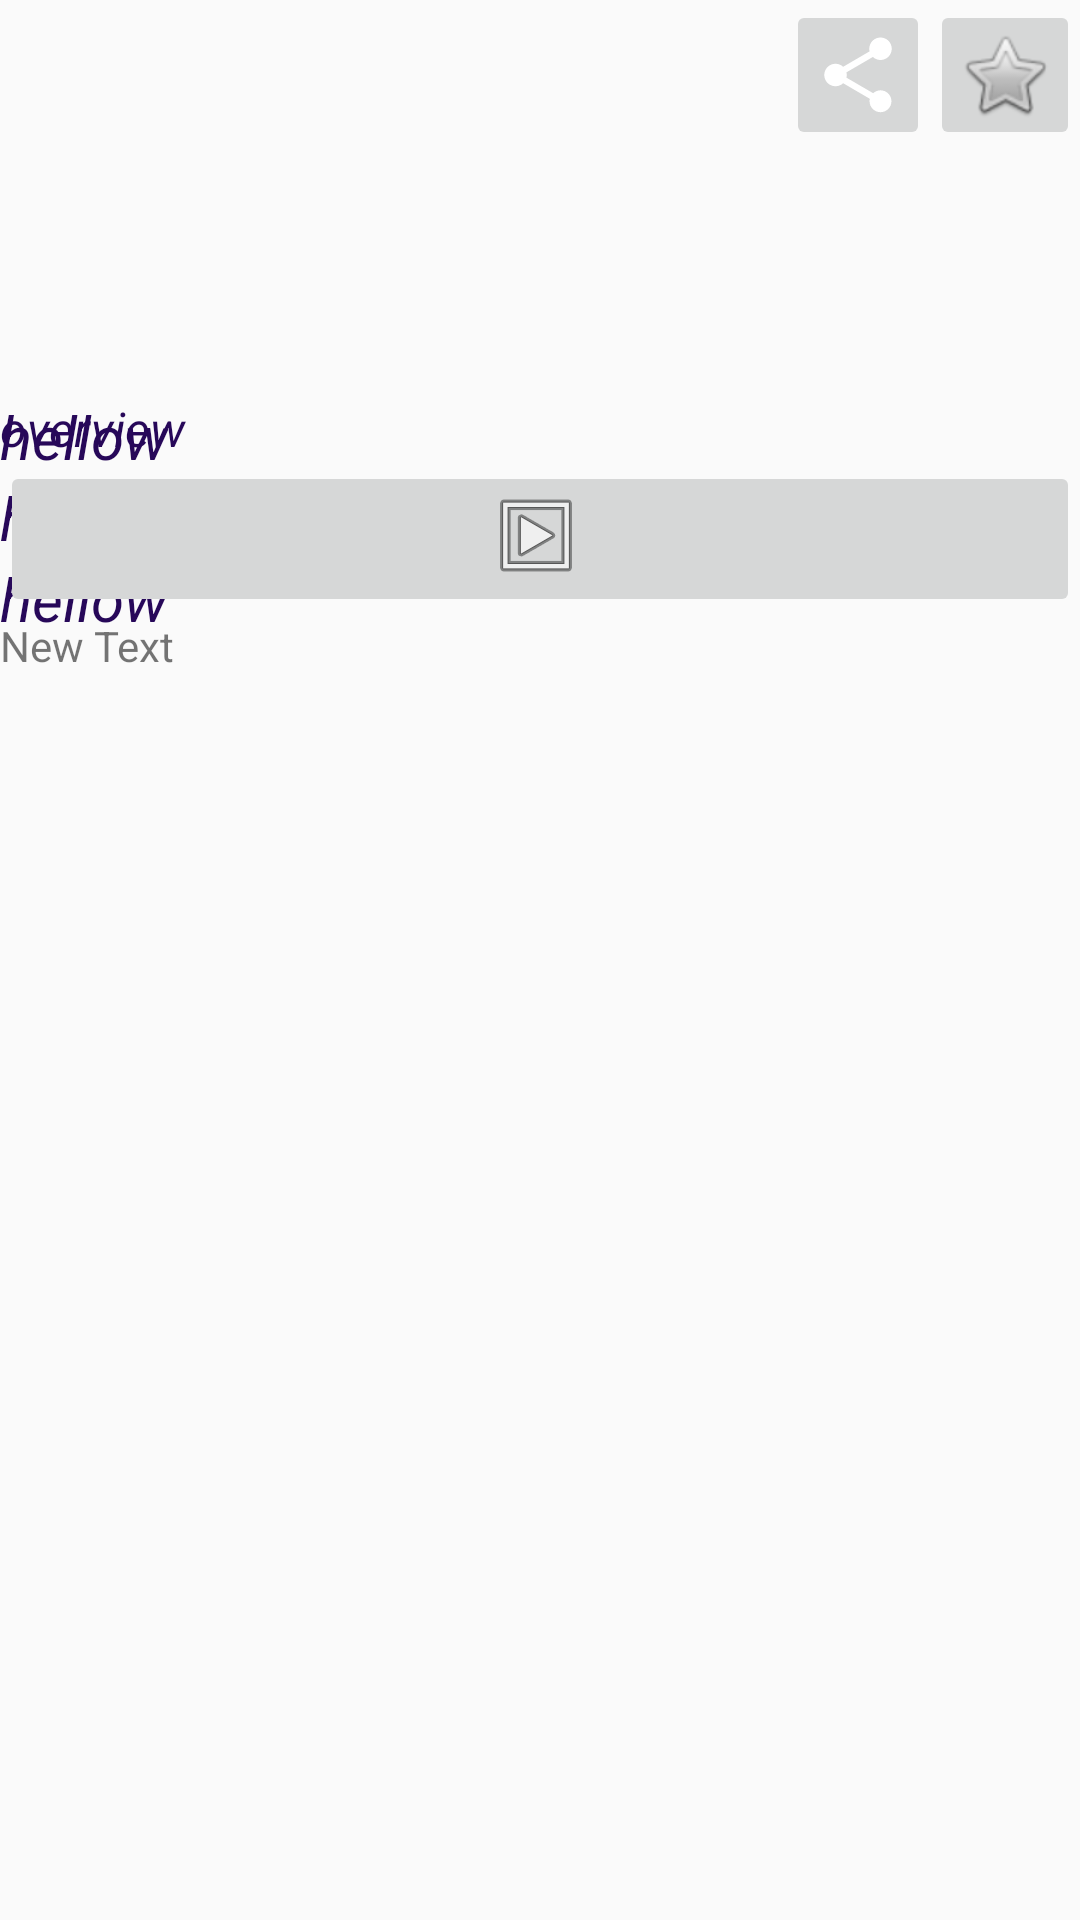

Point at icon controls on the screen. Image size 1080×1920, points as (x,y).
share: (858,75)
star off: (1005,75)
